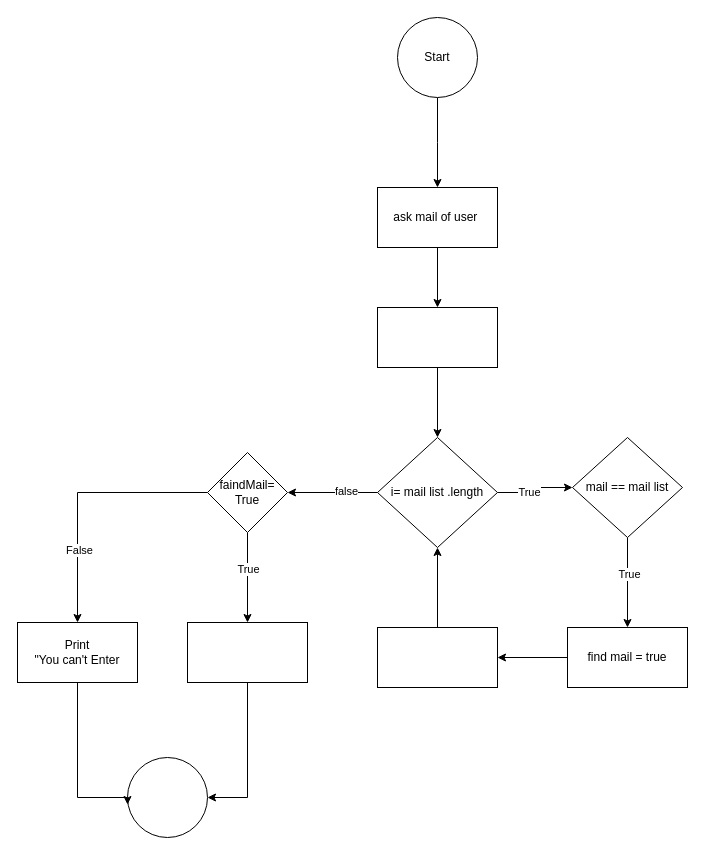
Image size: 705x855. Some labels were removed from this diagram. Each missing label, with the centre of its shape:
i++: pixel 437 657
i=0: pixel 437 337
Print "you can Enter": pixel 247 652
Stop: pixel 167 797
